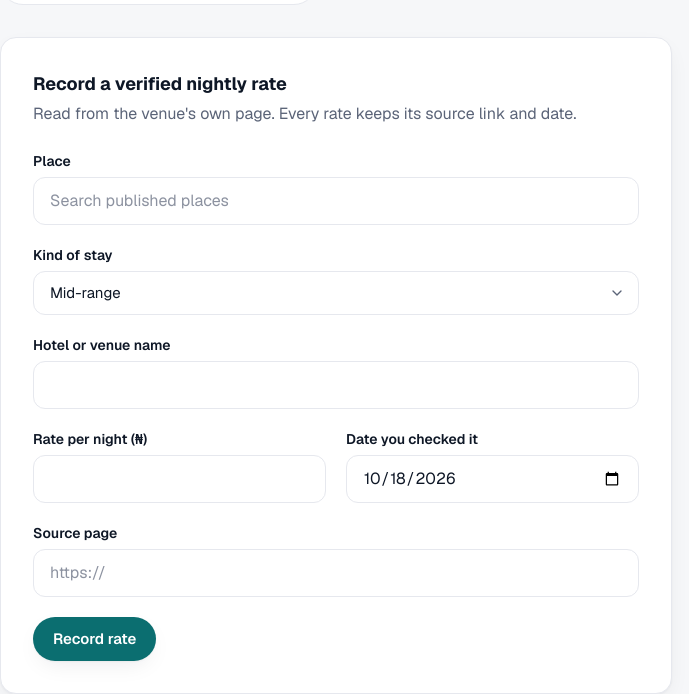
PricesPage › lists every missing field instead of submitting
The width and height of the screenshot is (689, 694).
(page scrolled)
What coordinates should you click on to do the following:
click the button "Record rate"
I would click on:
 (95, 639)
Its box is x1=33 y1=617 x2=156 y2=661.
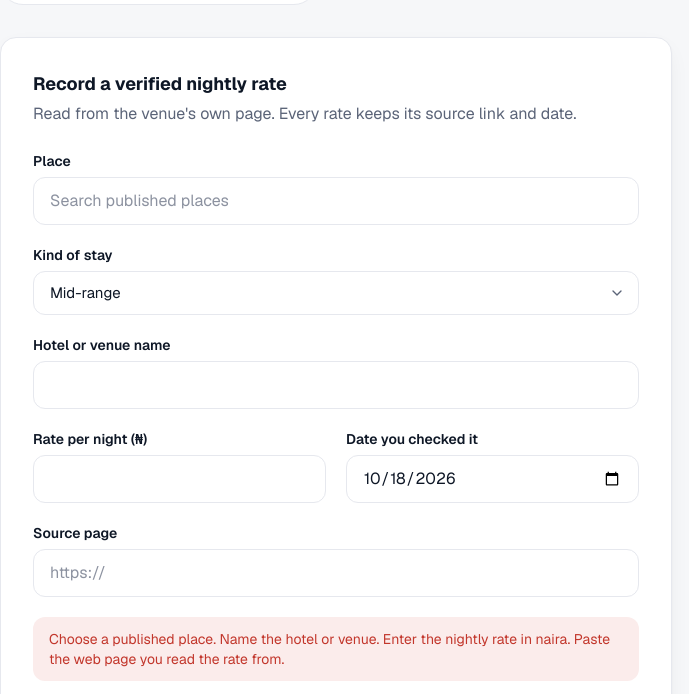
Result: the message shows "Choose a published place." at x1=49 y1=630 x2=610 y2=668
Result: the message shows "Paste the web page" at x1=49 y1=630 x2=610 y2=668
